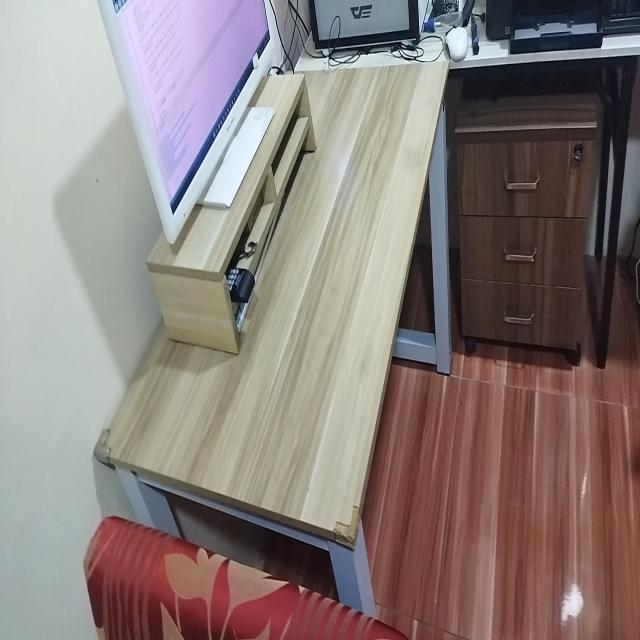table: (69, 51, 458, 588)
